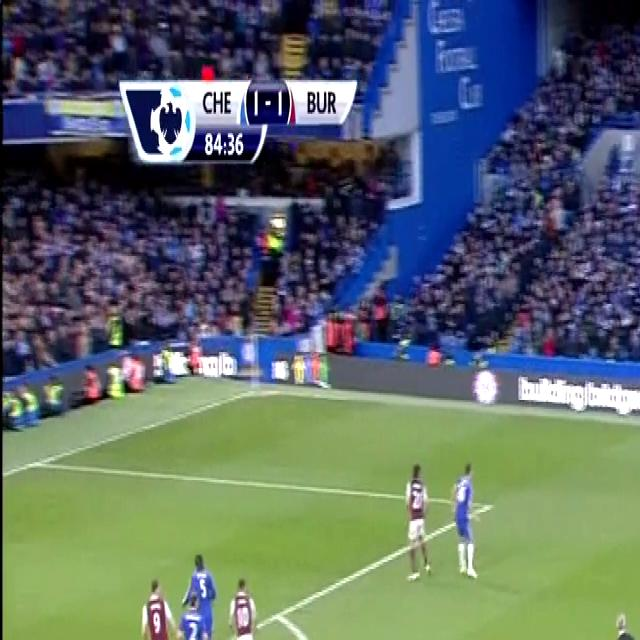referee: (608, 599, 640, 640)
soccer-player: (399, 452, 436, 591), (446, 452, 482, 589), (177, 537, 216, 640), (136, 576, 183, 640), (223, 567, 262, 640), (172, 599, 211, 640)
